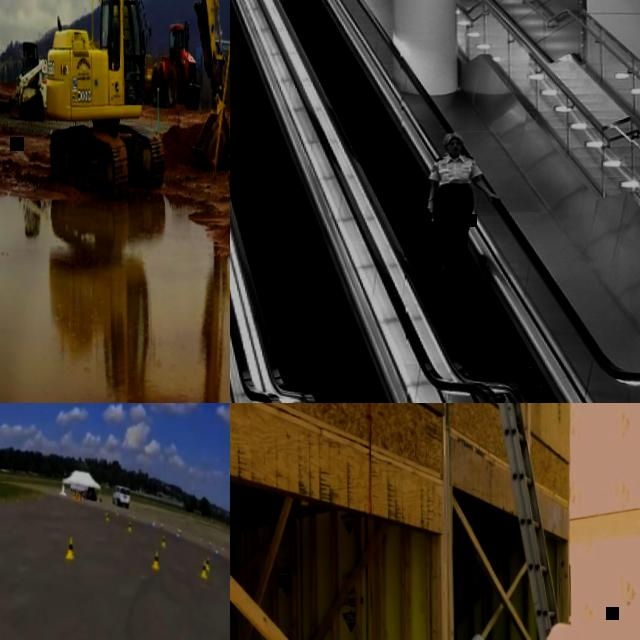Hardhat: (539, 619, 588, 640), (467, 634, 488, 640)
NO-Hardhat: (443, 133, 462, 145)
NO-Mask: (449, 145, 463, 154)
NO-Safety Vest: (437, 155, 475, 186)
Person: (423, 131, 502, 275)
Safety Cone: (66, 538, 79, 561), (152, 551, 163, 574), (201, 562, 209, 582), (204, 554, 212, 574), (161, 535, 167, 552), (104, 510, 111, 523), (127, 521, 133, 536), (116, 507, 119, 518)
machinery: (36, 0, 230, 195), (142, 21, 202, 110), (2, 40, 50, 121)
vehicle: (111, 485, 130, 509)
